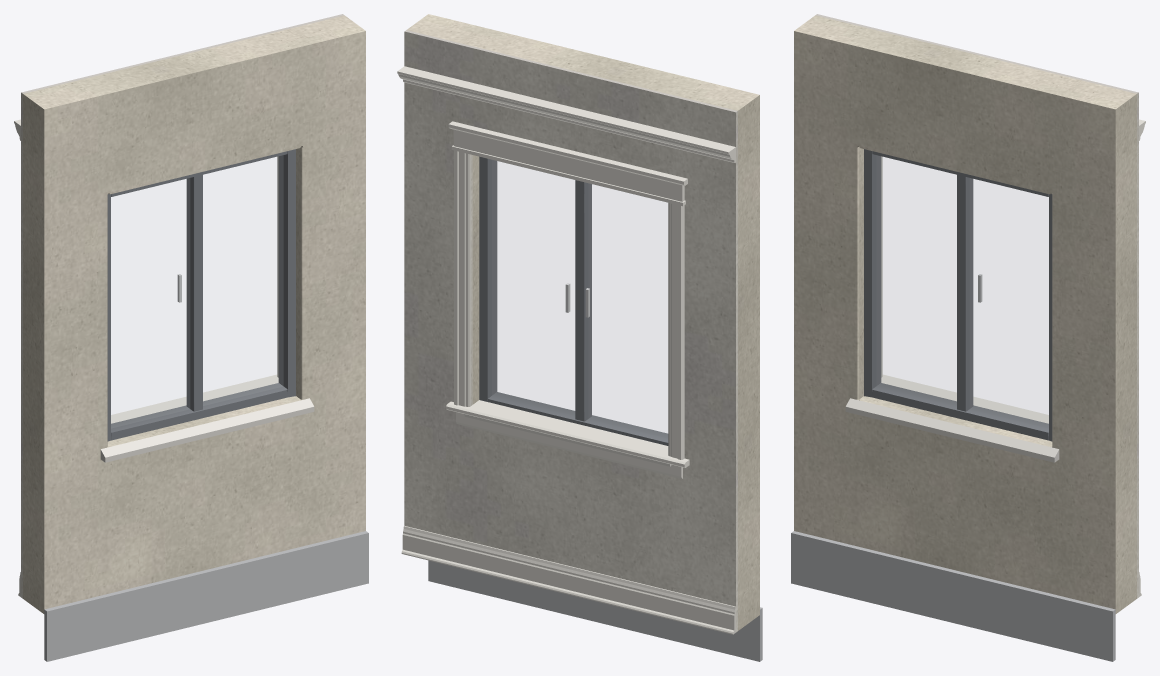
The model's file is t_win.glb.
The picture shows the model from 3 angles, left to right: view 1: azimuth 30°, elevation 25°; view 2: azimuth 150°, elevation 25°; view 3: azimuth 330°, elevation 25°; orthographic projection. The views are drawn at different scales.
Visible parts, largest first — view 1: t_win_render, folha_glass, t_win_band, t_win_frame, t_win_cill, molduras, t_win_plaster; view 2: t_win_plaster, folha_glass, molduras, t_win_render, t_win_frame, t_win_band, t_win_cill; view 3: t_win_render, folha_glass, t_win_band, t_win_frame, t_win_cill, molduras, t_win_plaster.
Boxes of the visible parts, x1,y1,x2,y2 form: t_win_render: (23,15,365,613); folha_glass: (111,156,282,427); t_win_band: (44,531,368,661); t_win_frame: (107,149,295,441); t_win_cill: (100,398,314,462); molduras: (14,119,278,596); t_win_plaster: (21,14,343,598); t_win_plaster: (404,30,737,632); folha_glass: (492,160,667,437); molduras: (397,66,735,634); t_win_render: (407,14,759,630); t_win_frame: (479,156,668,445); t_win_band: (428,560,762,661); t_win_cill: (464,414,671,466); t_win_render: (794,15,1136,613); folha_glass: (877,156,1048,427); t_win_band: (791,531,1115,661); t_win_frame: (864,149,1052,441); t_win_cill: (845,398,1059,462); molduras: (881,119,1145,596); t_win_plaster: (816,14,1138,598).
Size of the model in its own units: 2 by 3.27 by 0.375.
Materials: 8 (2 with a texture image).
